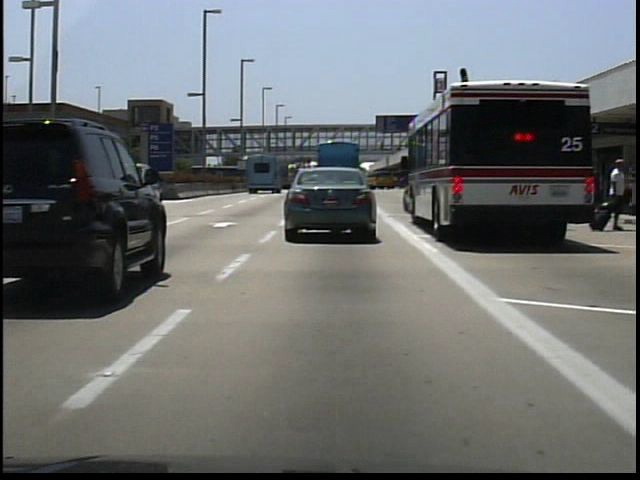person: (601, 154, 628, 236), (377, 137, 390, 157)
